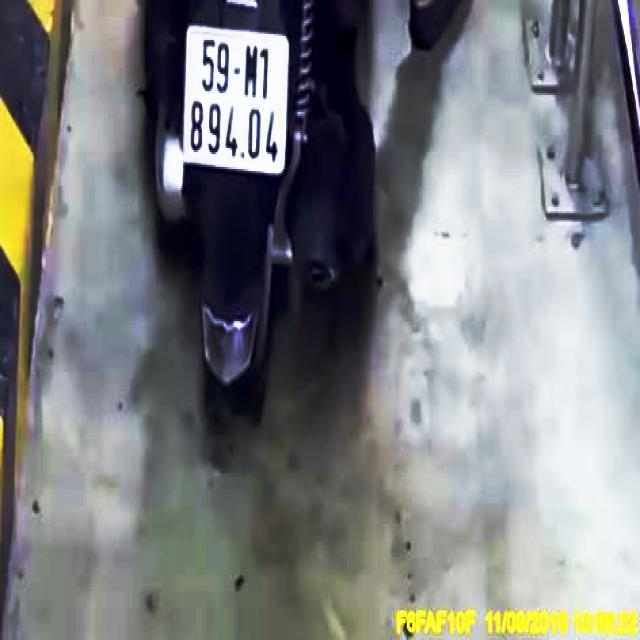license_plate: (186, 27, 290, 172)
